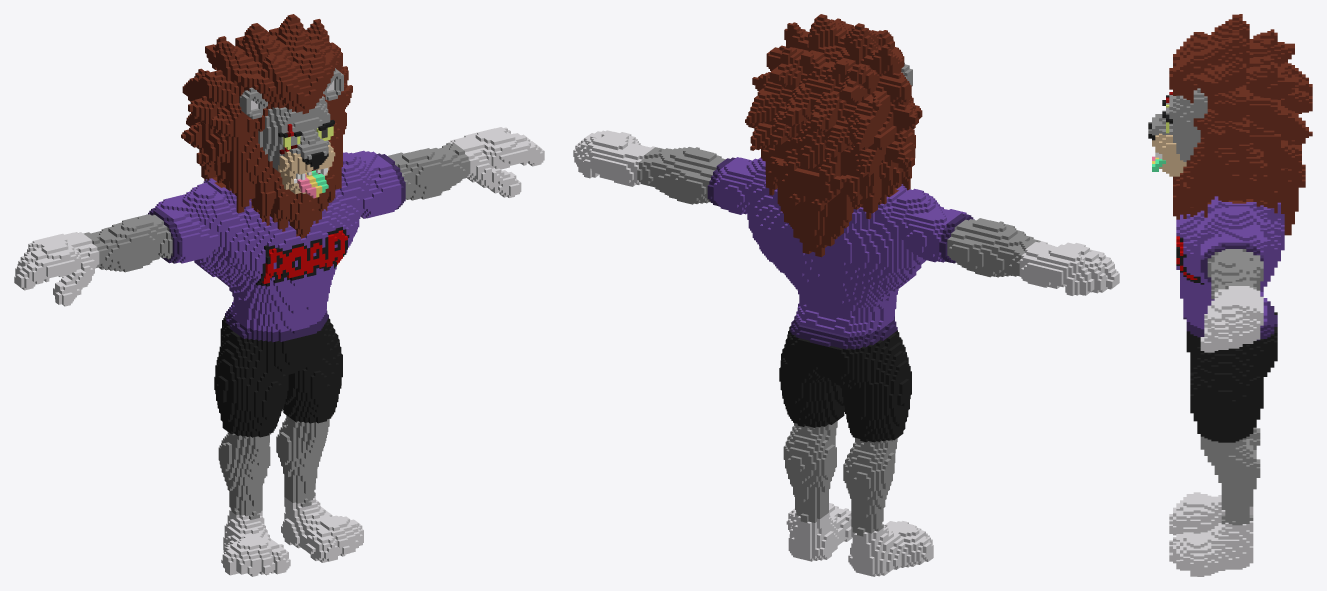
The model's file is 480-DIA4RhIT.glb.
3 renders of one model, left to right at view 1: azimuth 30°, elevation 25°; view 2: azimuth 150°, elevation 25°; view 3: azimuth 270°, elevation 25°, orthographic. The views are drawn at different scales.
Visible parts, largest first — view 1: rainbow_puke; view 2: rainbow_puke; view 3: rainbow_puke.
Part boxes in pixels (left/top/right/bottom): rainbow_puke: left=14, top=14, right=544, bottom=576; rainbow_puke: left=573, top=14, right=1119, bottom=576; rainbow_puke: left=1148, top=14, right=1312, bottom=576.
Size of the model in its own units: 17.2 by 16.5 by 4.7.
Materials: 5 (5 with a texture image).
